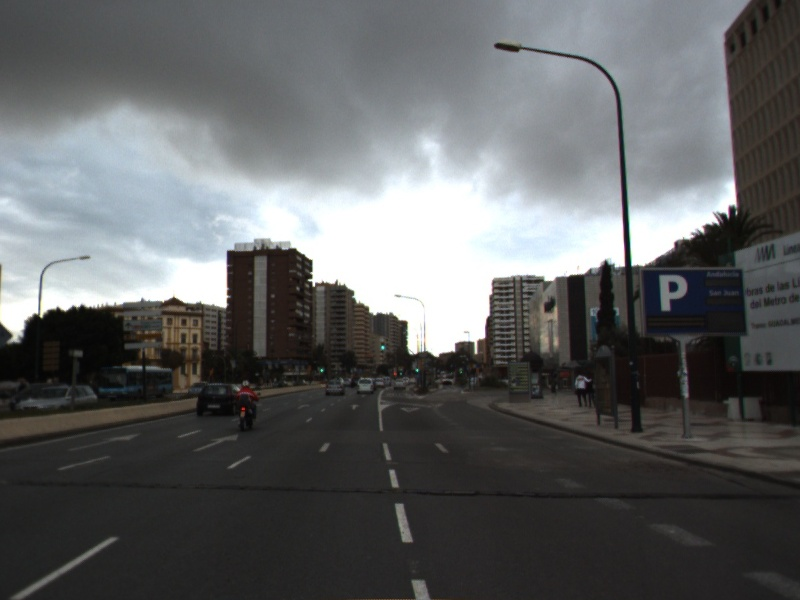STRAIGHT: (65, 431, 143, 453), (190, 432, 241, 454), (348, 402, 362, 411)
